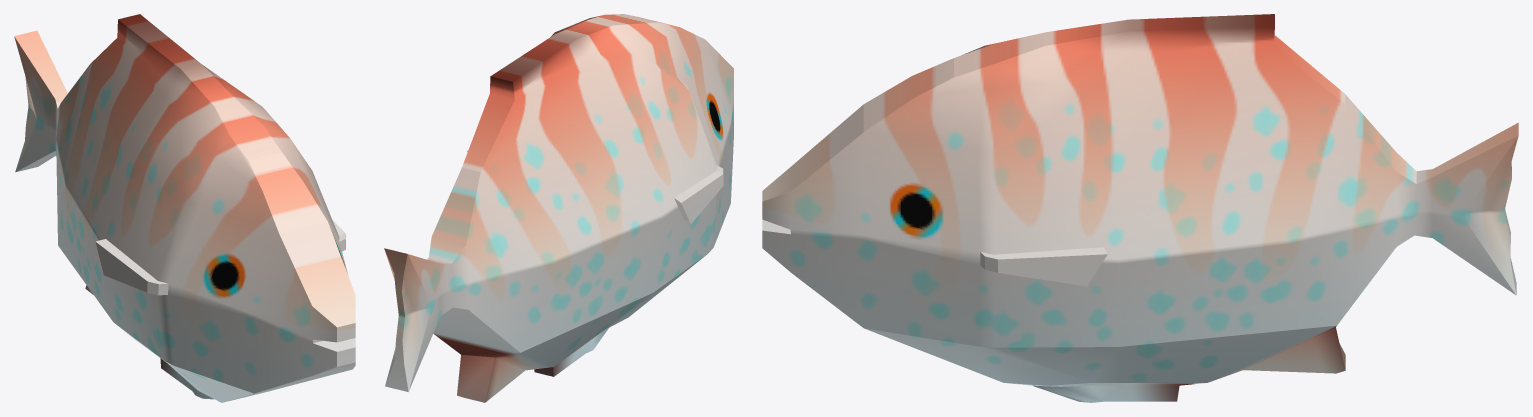
File: rainbowSeaPerch.fbx
The picture shows the model from 3 angles, left to right: view 1: azimuth 30°, elevation 25°; view 2: azimuth 150°, elevation 25°; view 3: azimuth 270°, elevation 25°; orthographic projection. The views are drawn at different scales.
Visible parts, largest first — view 1: RainbowSeaperch; view 2: RainbowSeaperch; view 3: RainbowSeaperch.
Boxes of the visible parts, box(x1,y1,x2,y2) form: RainbowSeaperch: box(14, 14, 355, 402); RainbowSeaperch: box(384, 14, 733, 402); RainbowSeaperch: box(762, 14, 1518, 402).
Size of the model in its own units: 0.2668 by 0.3873 by 0.706.
